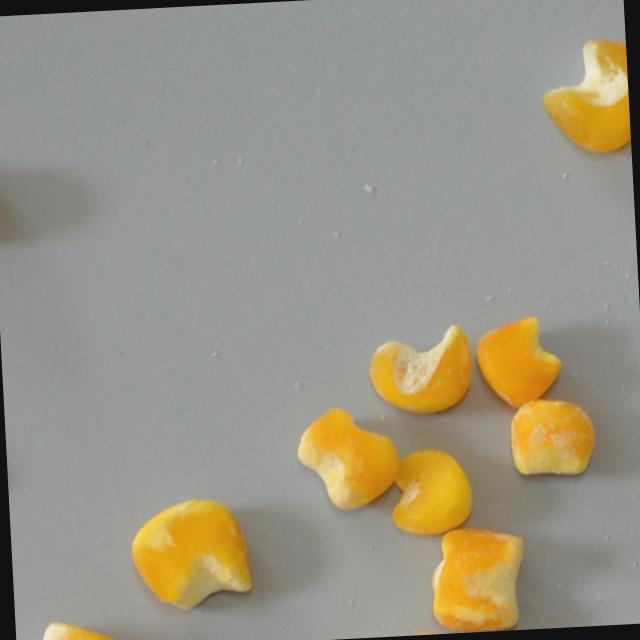agrietado: (128, 493, 255, 613)
no_canjicado: (295, 404, 404, 514), (538, 37, 632, 156), (367, 323, 476, 417), (475, 314, 565, 410), (389, 444, 475, 537)
pelicula: (428, 524, 529, 634), (509, 397, 598, 478), (22, 617, 123, 640)
